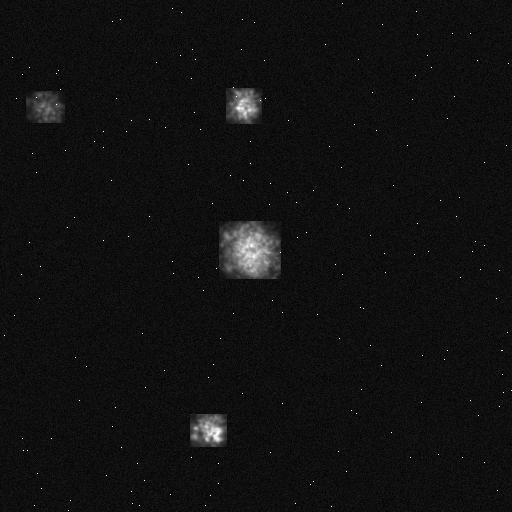lam1: (226, 88, 261, 123), (26, 91, 64, 122), (190, 414, 226, 446)
lam3: (219, 221, 280, 278)
